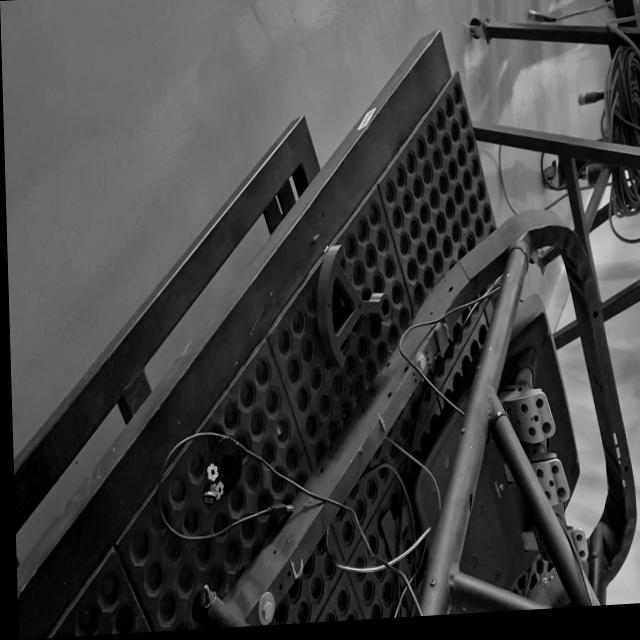haptic: (314, 239, 394, 370)
